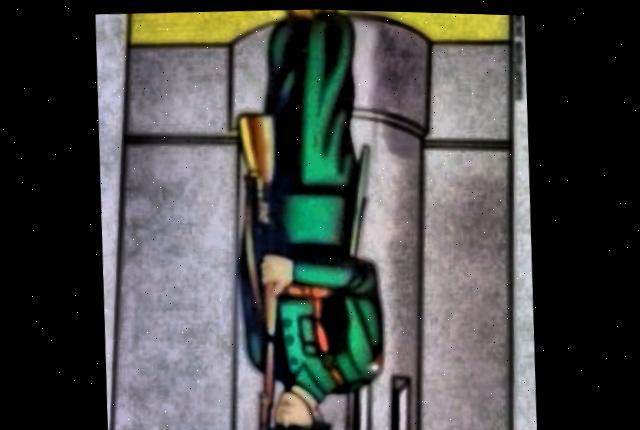El Soldado: (114, 7, 512, 430)
